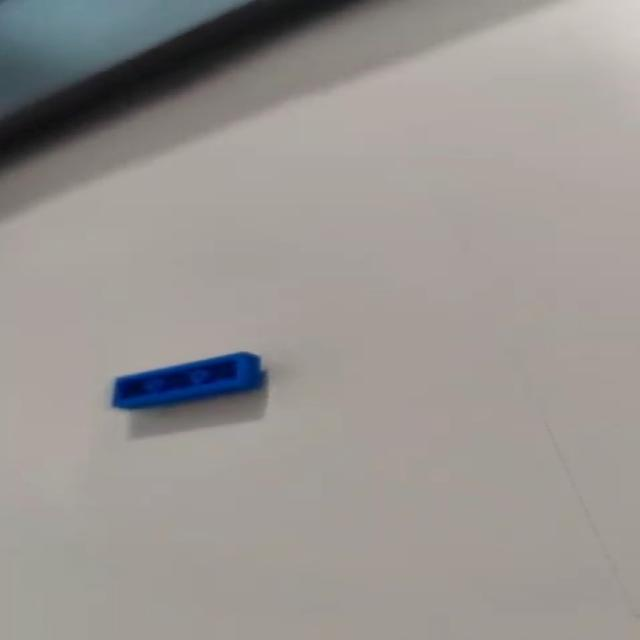C3x1x0: (107, 353, 263, 411)
